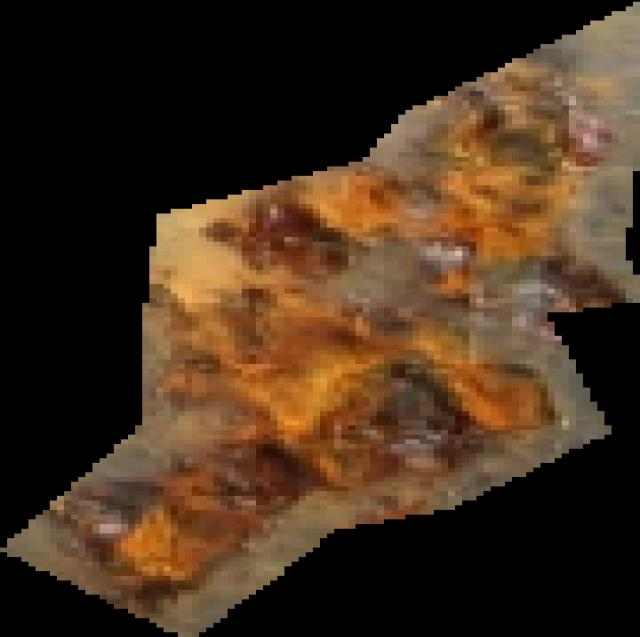Pitting Corrosion: (0, 1, 640, 637)
